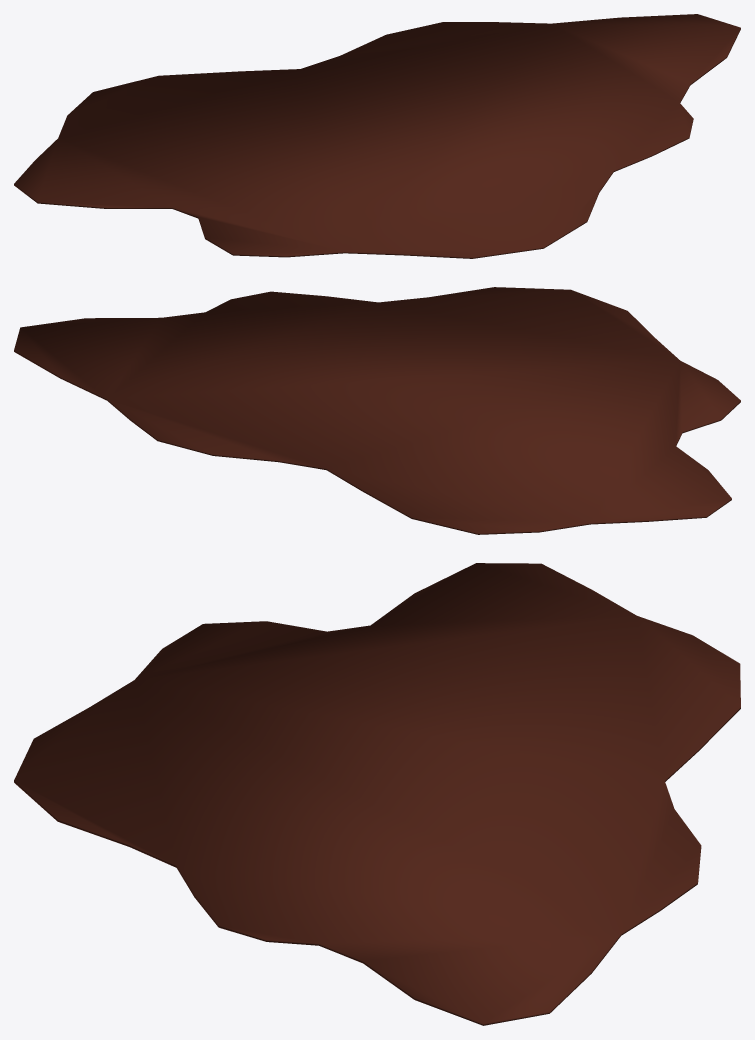
The model's file is vet_uot.glb.
3 views of the same model, one above another, from view 1: azimuth 30°, elevation 25°; view 2: azimuth 150°, elevation 25°; view 3: azimuth 270°, elevation 25° (orthographic). The views are drawn at different scales.
Visible parts, largest first — view 1: vet_uot; view 2: vet_uot; view 3: vet_uot.
Boxes of the visible parts, x1=… form: vet_uot: x1=14, y1=14, x2=740, y2=258; vet_uot: x1=14, y1=287, x2=740, y2=534; vet_uot: x1=14, y1=563, x2=740, y2=1025.
Size of the model in its own units: 0.9113 by 0.002 by 0.6078.
